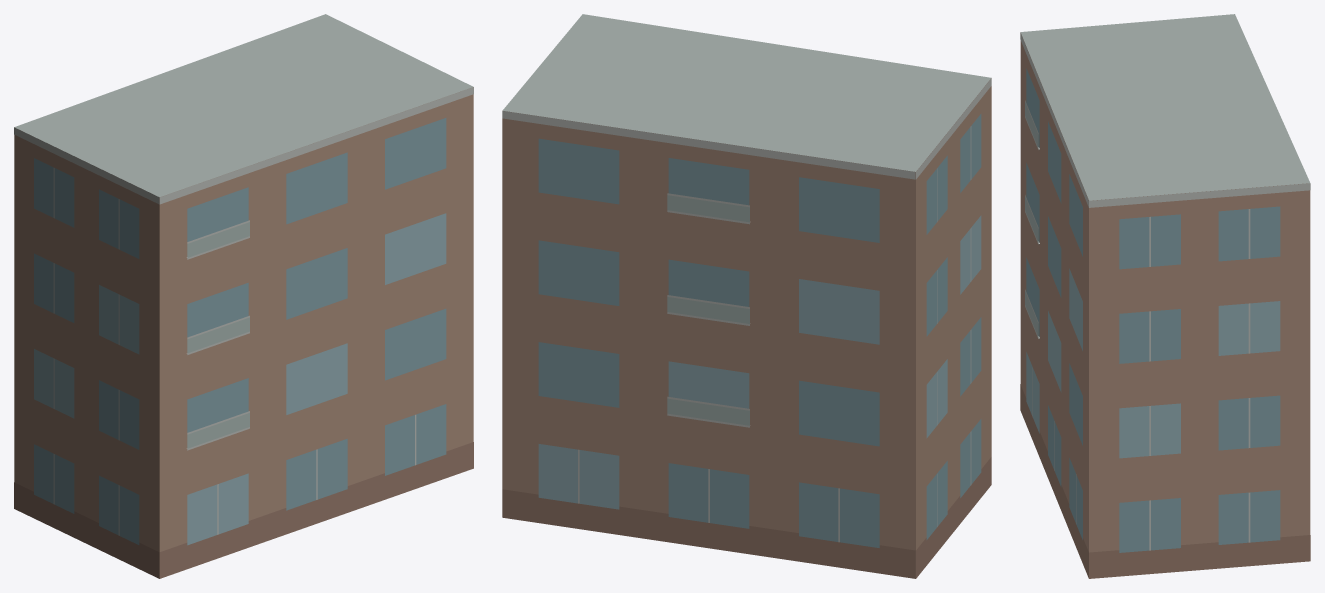
File: survey-upis-32608896.glb
The picture shows the model from 3 angles, left to right: view 1: azimuth 30°, elevation 25°; view 2: azimuth 150°, elevation 25°; view 3: azimuth 270°, elevation 25°; orthographic projection. The views are drawn at different scales.
Visible parts, largest first — view 1: survey-upis-32608896.tmp; view 2: survey-upis-32608896.tmp; view 3: survey-upis-32608896.tmp.
Boxes of the visible parts, x1,y1,x2,y2 form: survey-upis-32608896.tmp: [14, 14, 473, 578]; survey-upis-32608896.tmp: [502, 14, 991, 578]; survey-upis-32608896.tmp: [1020, 14, 1310, 578].
Bounding box in the file's own units: 13.56 × 12.8 × 8.91.
